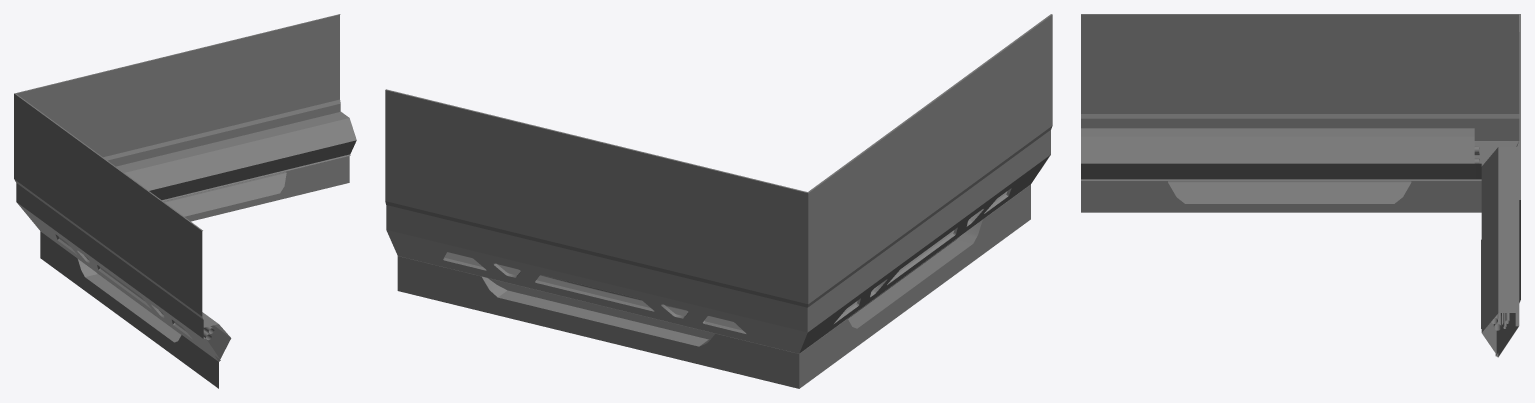
File: q-scifi-mod-topcables-corner-square-outer.glb
3 views of the same model, side by side, from view 1: azimuth 30°, elevation 25°; view 2: azimuth 150°, elevation 25°; view 3: azimuth 270°, elevation 25° (orthographic). The views are drawn at different scales.
Visible parts, largest first — view 1: TopCables_Corner_Square_Outer; view 2: TopCables_Corner_Square_Outer; view 3: TopCables_Corner_Square_Outer.
Boxes of the visible parts, box(x1,y1,x2,y2) form: TopCables_Corner_Square_Outer: box(14, 14, 356, 388); TopCables_Corner_Square_Outer: box(385, 14, 1052, 388); TopCables_Corner_Square_Outer: box(1081, 14, 1520, 357).
Size of the model in its own units: 4.22 by 2 by 4.22.
Materials: 4 (4 with a texture image).
